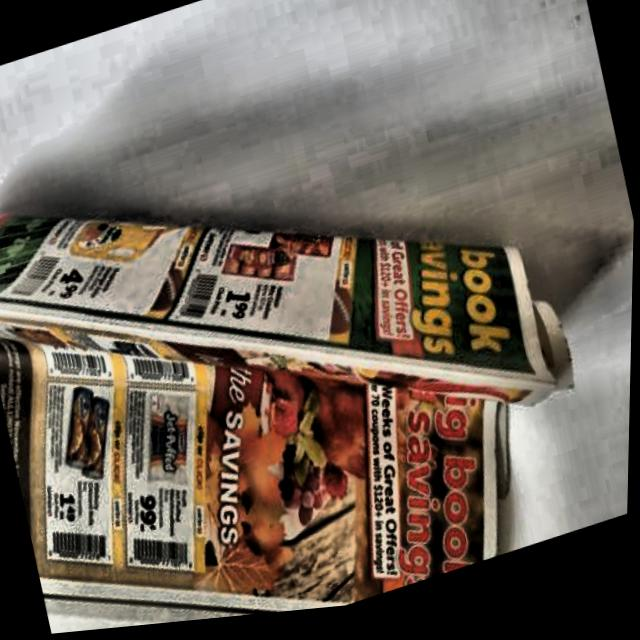Paper: (0, 10, 625, 640)
